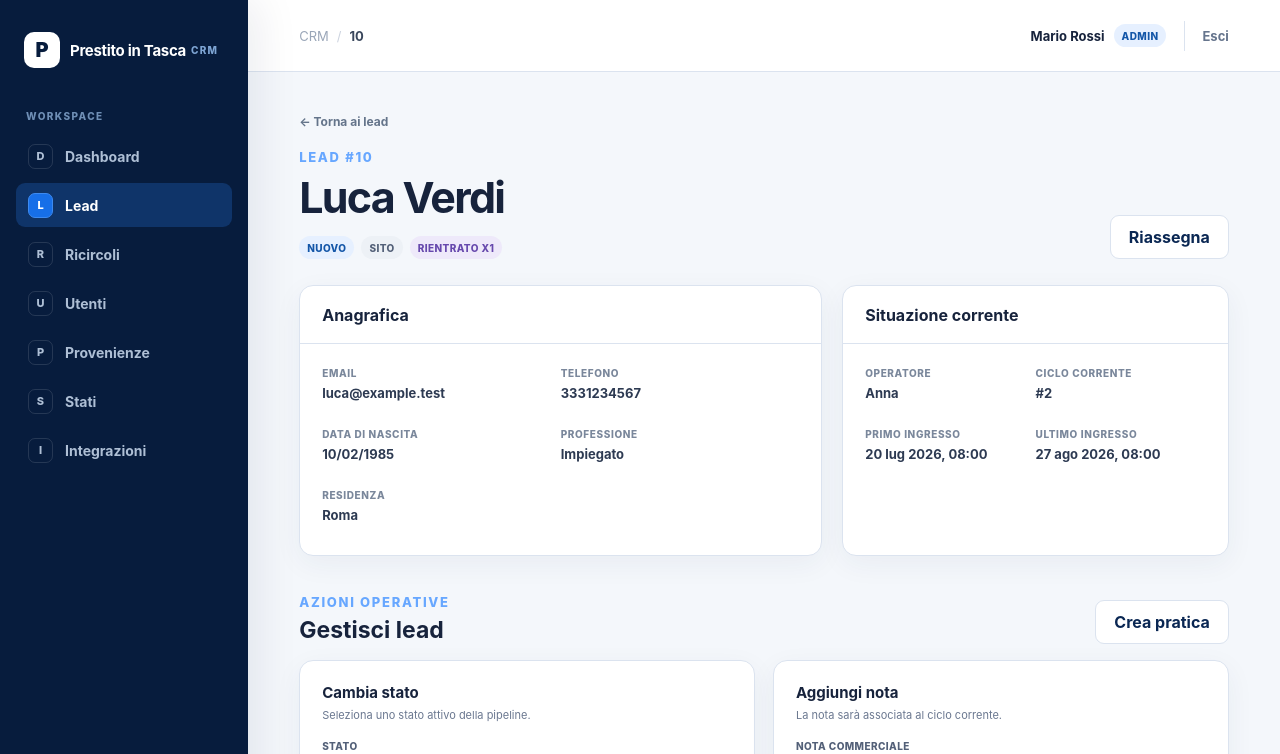
Test: autenticazione applicazione › mostra dettaglio, cicli e riassegnazione Admin con operatori eleggibili
Expected: the heading "Luca Verdi" is shown, [299,171,504,223]
Click the button "Riassegna" at (1169, 237), box [1110,215,1229,259]
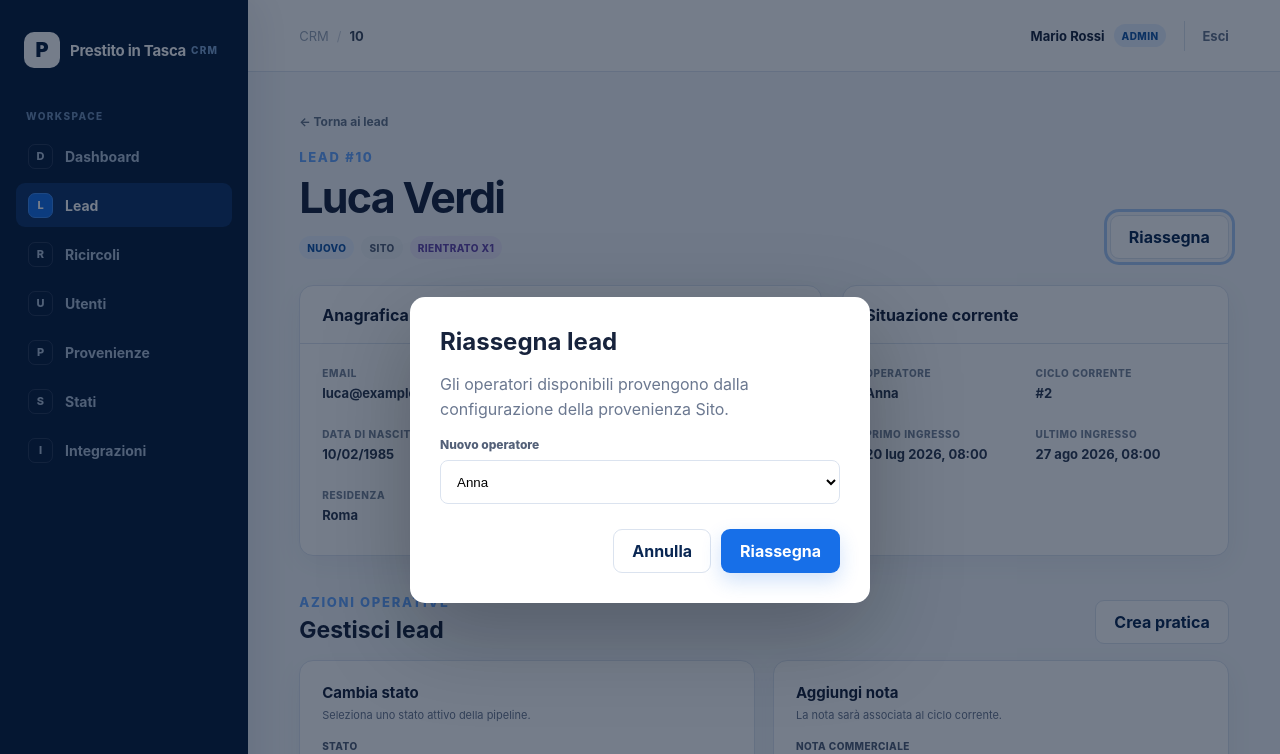
Click the button "Riassegna" at (780, 551), box [721,529,840,573]
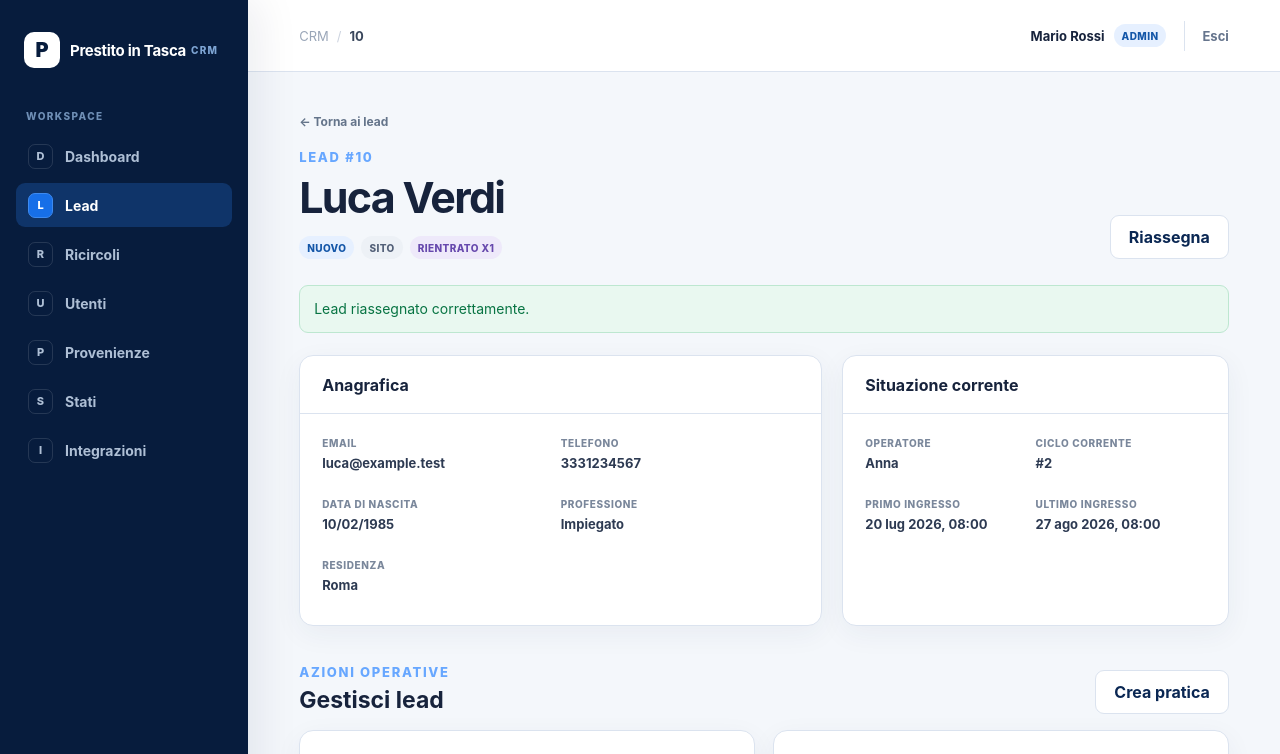
Expected: the text "Lead riassegnato correttamente." is shown, [299,285,1229,333]
